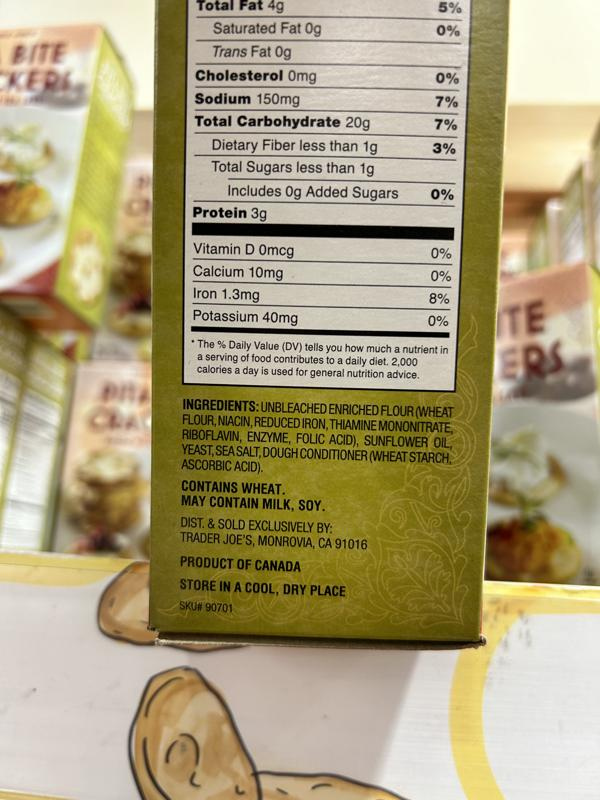ingredients: (177, 393, 459, 477)
